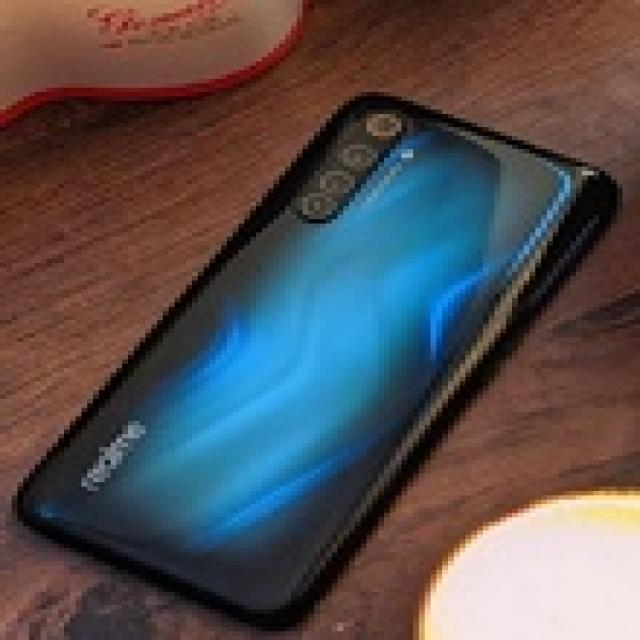mobile_phone: (5, 75, 634, 627)
